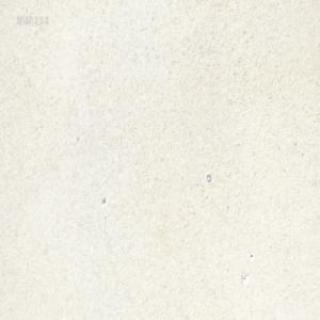Washertrack_idkeyframe: (205, 172, 211, 182)
